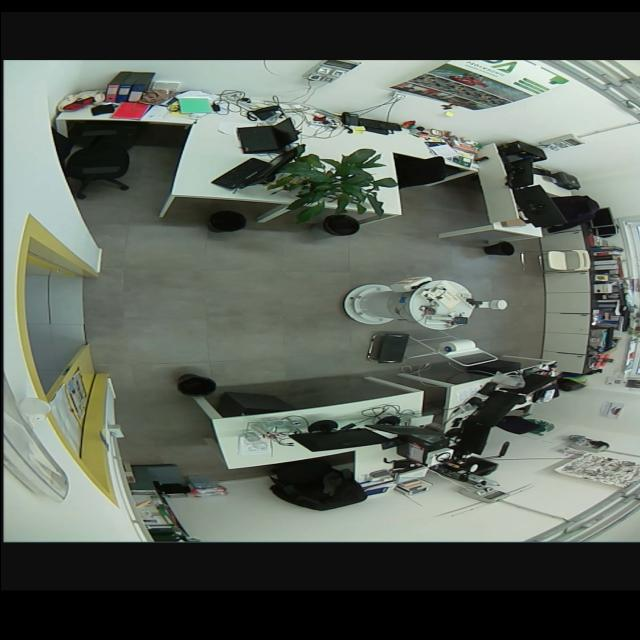Open: (18, 234, 102, 416)
